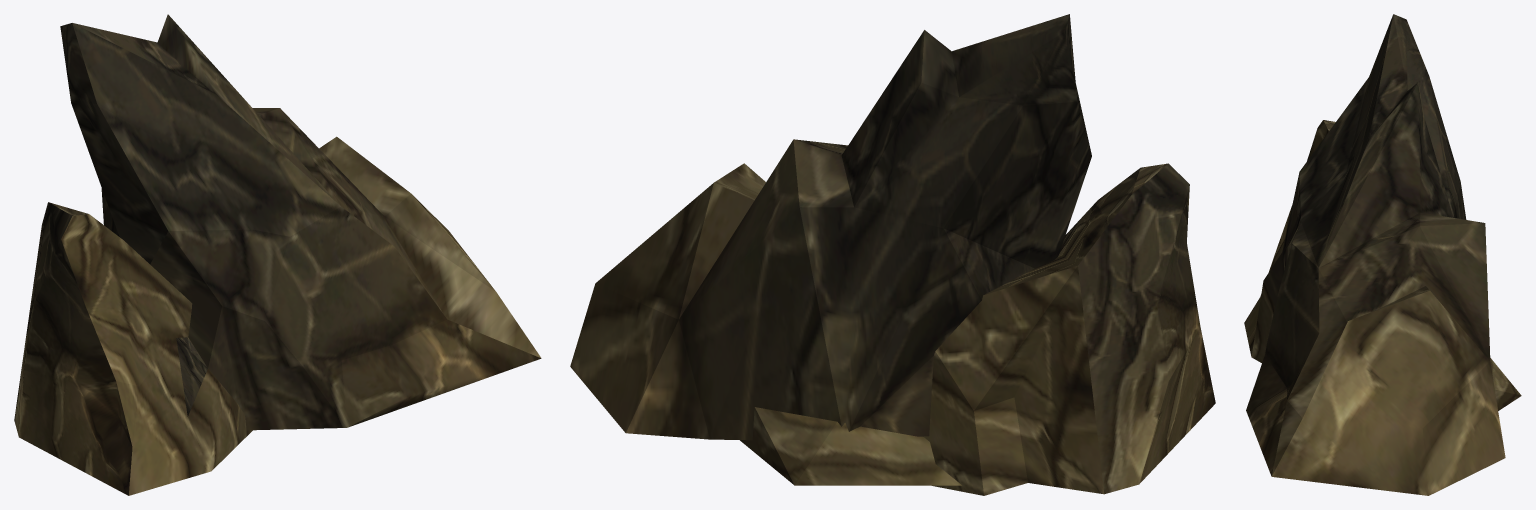
The model's file is D_shitou001.fbx.
3 renders of one model, left to right at view 1: azimuth 30°, elevation 25°; view 2: azimuth 150°, elevation 25°; view 3: azimuth 270°, elevation 25°, orthographic. The views are drawn at different scales.
Parts seen in each view (by area): view 1: D_shitou001; view 2: D_shitou001; view 3: D_shitou001.
Part boxes in pixels (x1,y1,x2,y2): D_shitou001: (14, 14, 541, 495); D_shitou001: (570, 14, 1215, 495); D_shitou001: (1244, 14, 1521, 495).
Bounding box in the file's own units: 446 × 353 × 275.
